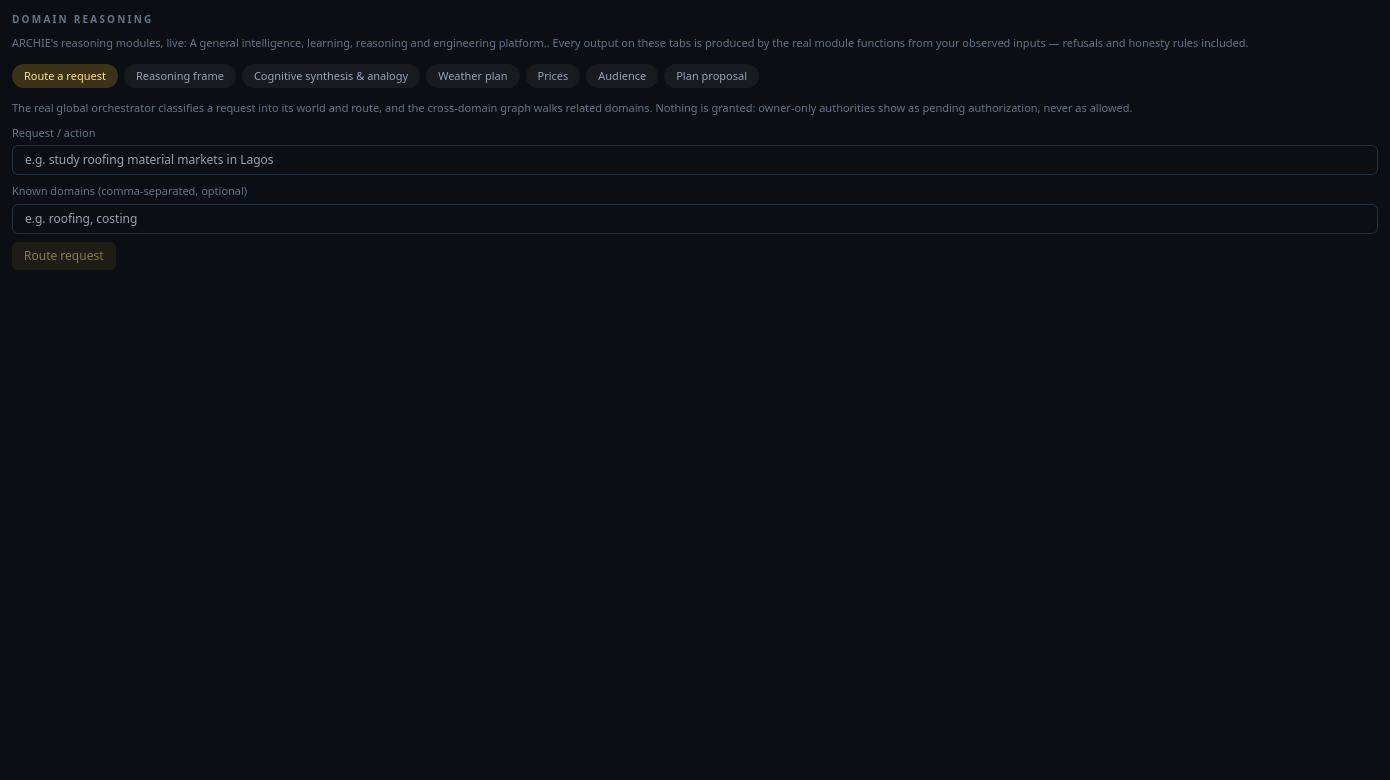
Test case: DomainReasoning › plan proposals carry high-consequence disclaimers
Click the tab "Plan proposal" at (712, 76), box [664,64,759,88]
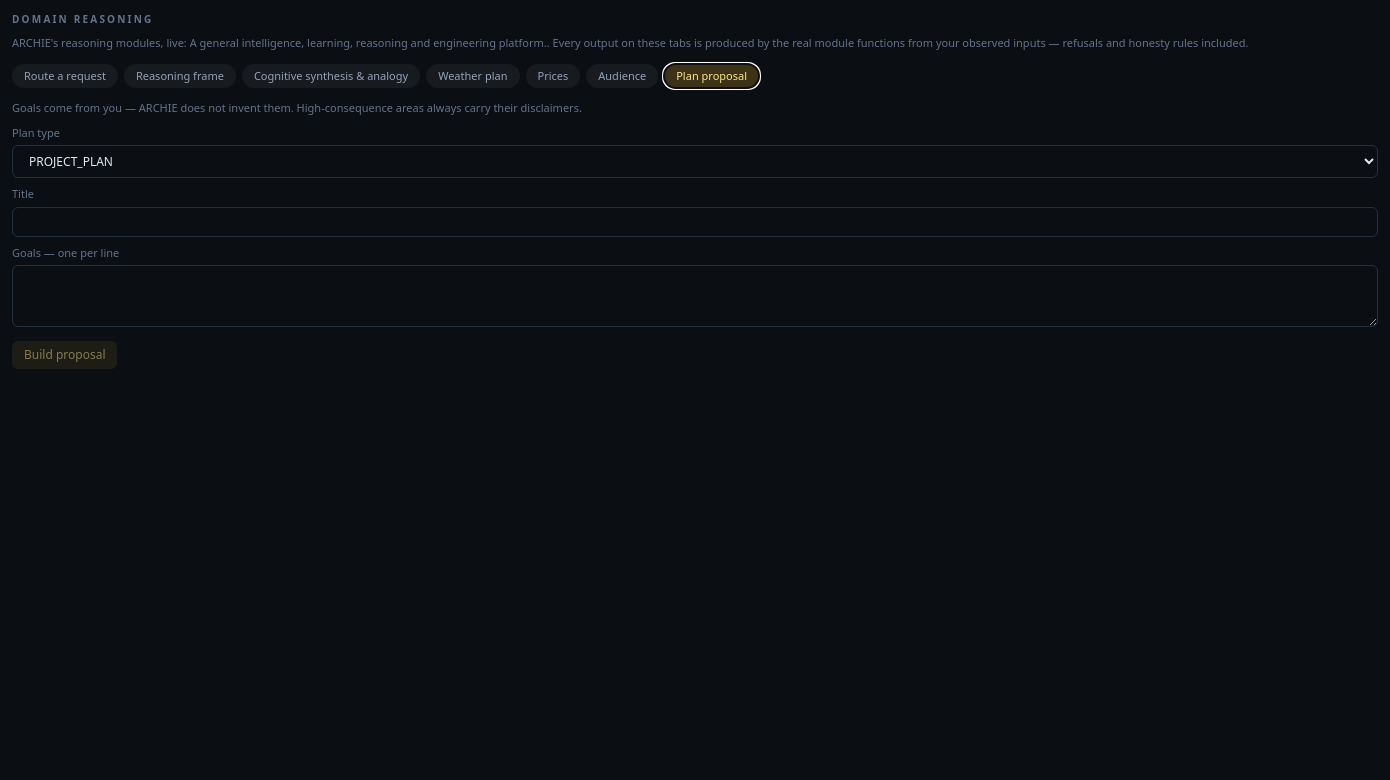
Type "Improve cardio fitness" into the field named "Plan title" at (695, 222), box [12,206,1378,236]
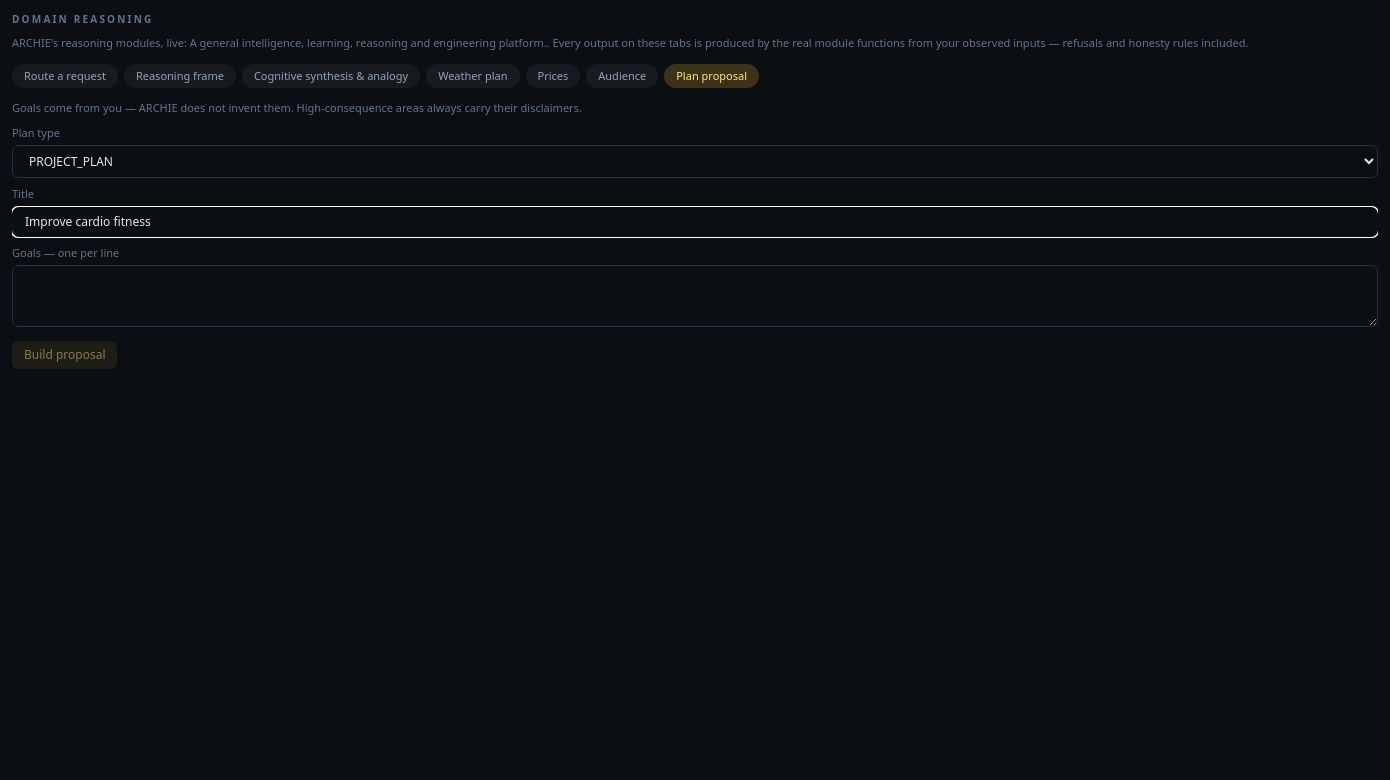
Type "run 3 times a week" into the text box labelled "Goals" at (695, 296), box [12,265,1378,327]
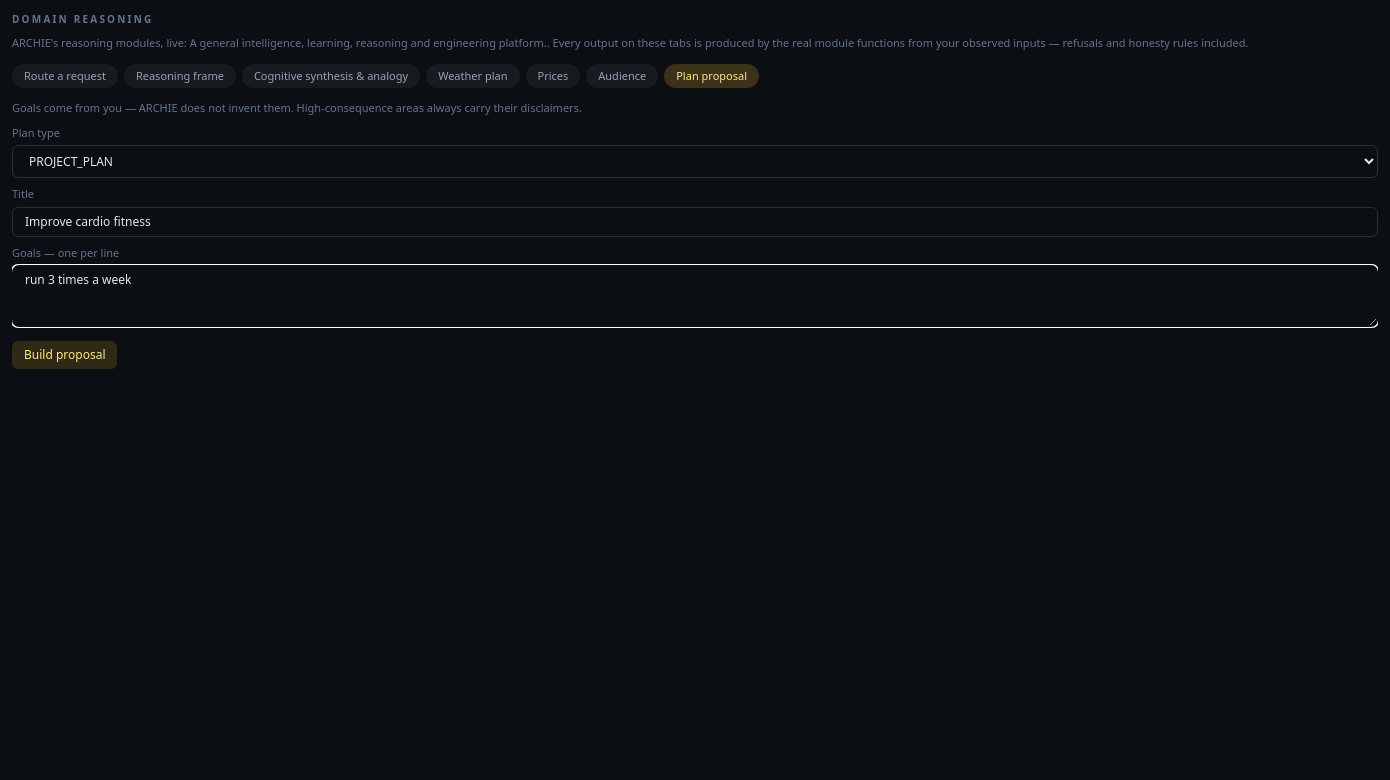
Click the button "Build proposal" at (65, 355), box [12,341,118,369]
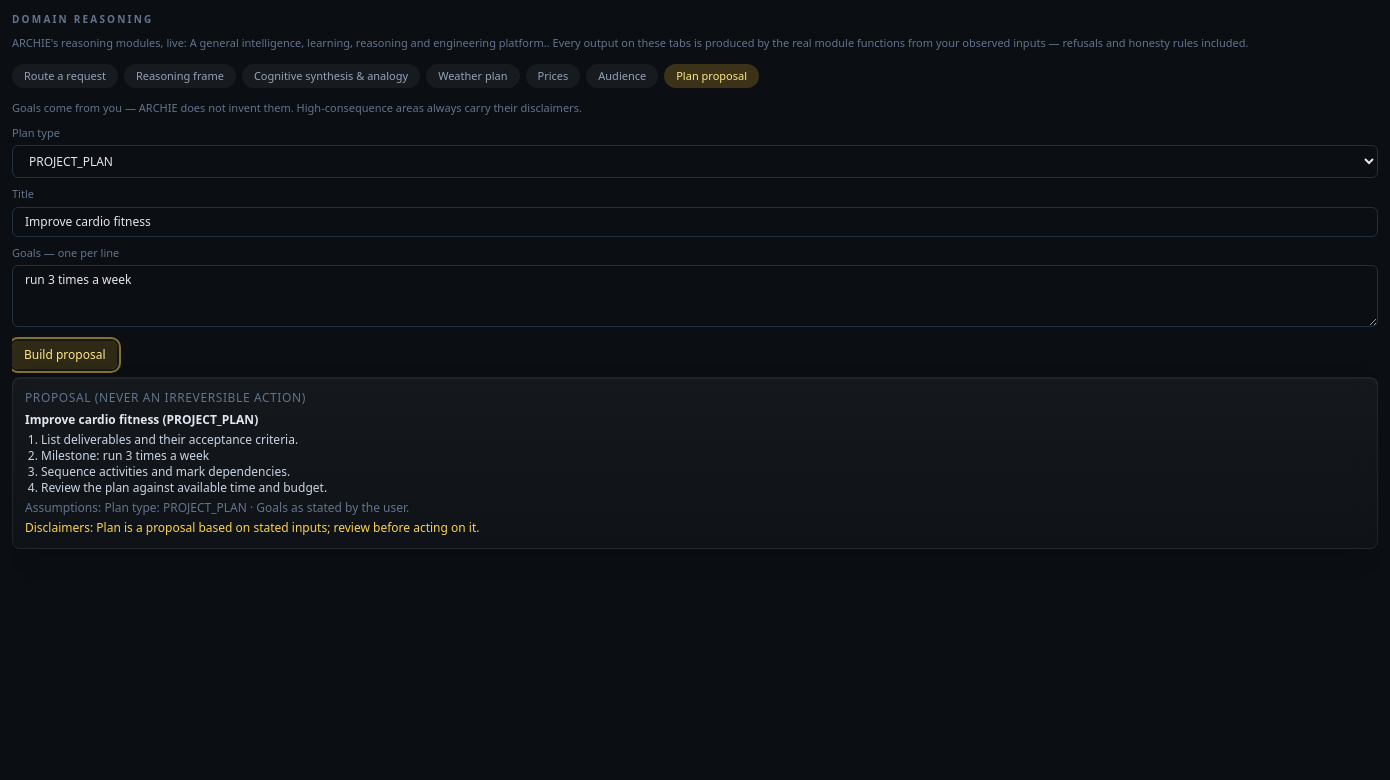
Check: the text "Proposal (never an irreversible action)" is shown, box [25,389,306,406]
Check: the text "Disclaimers:" is shown, box [25,519,96,536]
